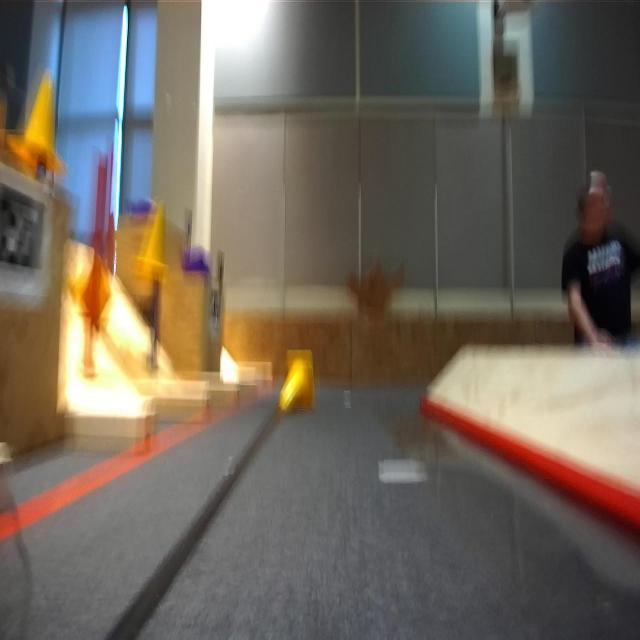frc_cone: (8, 68, 62, 172), (140, 201, 174, 277), (278, 348, 316, 412)
frc_cube: (180, 242, 210, 276), (132, 199, 158, 216)
